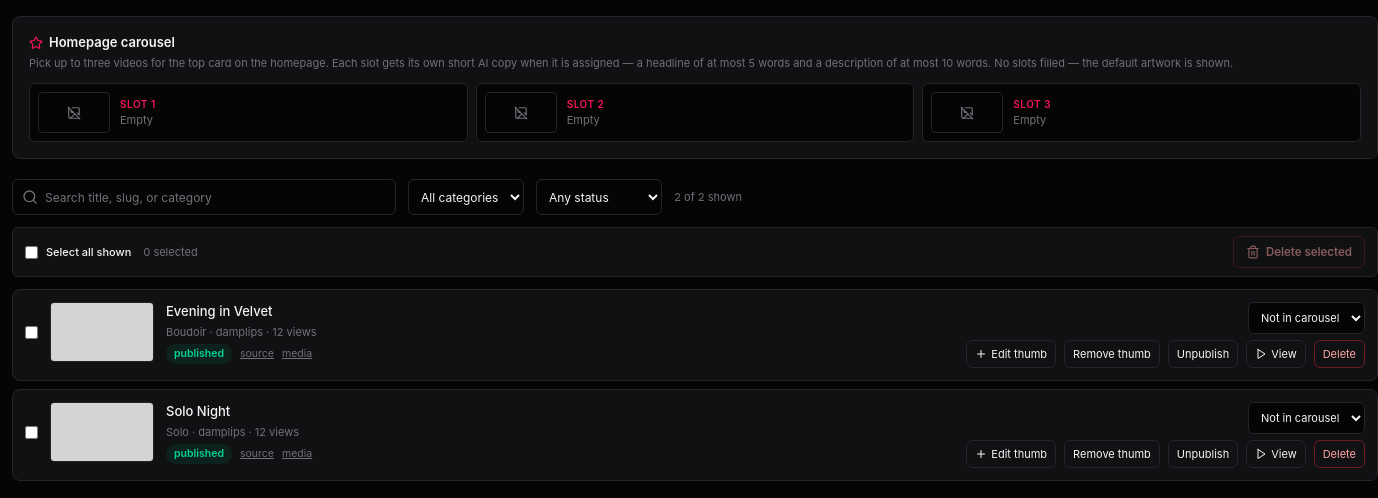
Scenario: VideoManager — categories, select all, carousel, bulk actions › bulk-deletes the selection after confirmation
This screenshot has width=1378, height=498.
Click the checkbox named "Select all shown videos": (32, 252) [25,246,38,259]
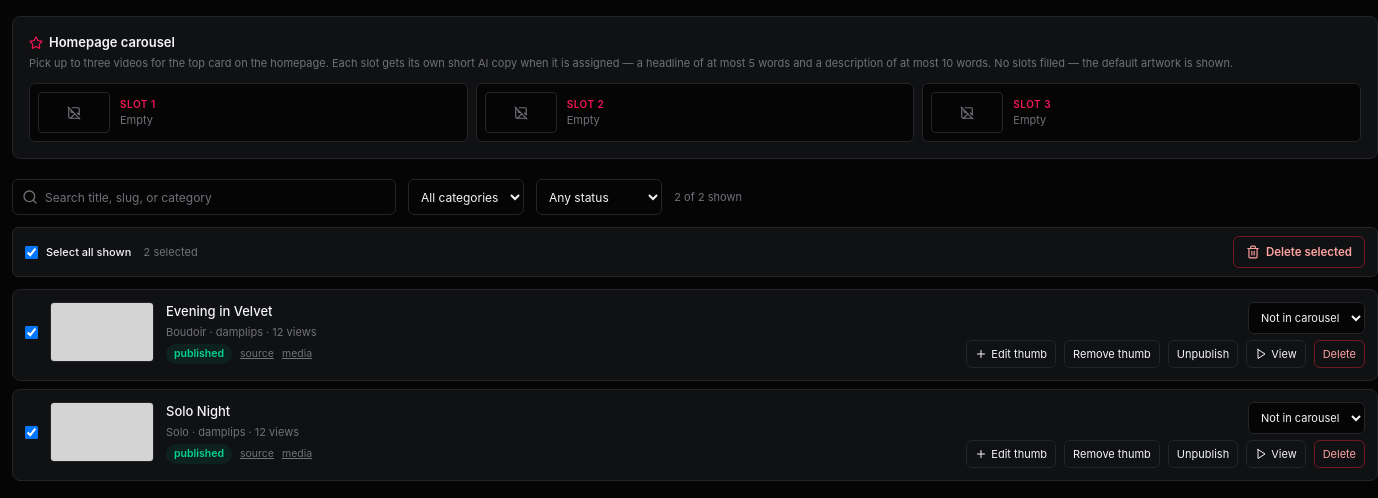
Click the button "Delete selected": (1299, 252) [1233,236,1365,268]
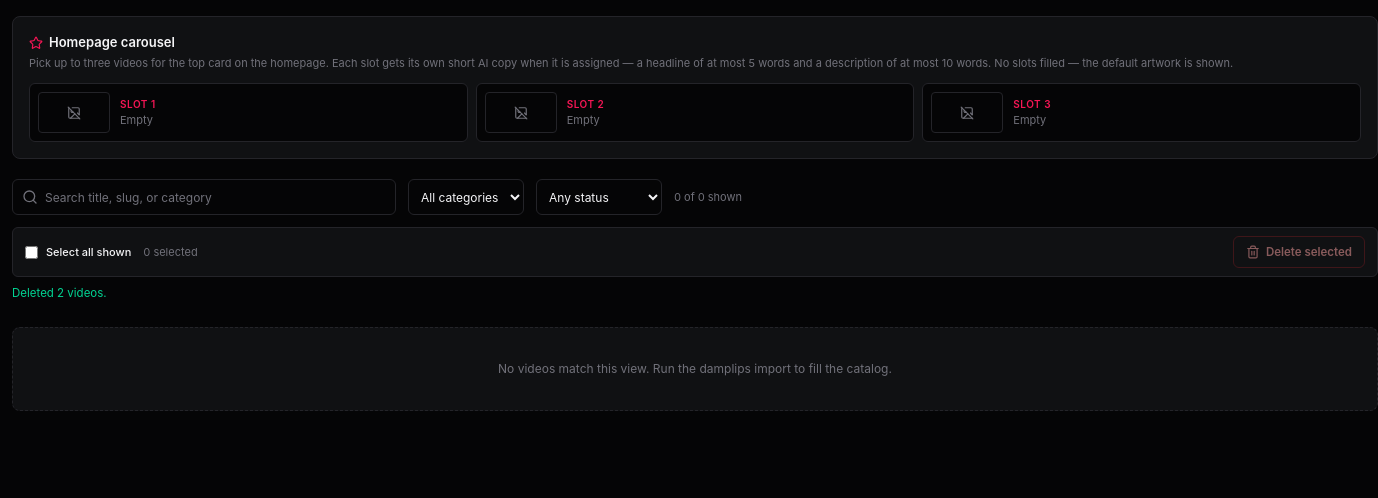
expect the text "Solo Night" is gone: met
